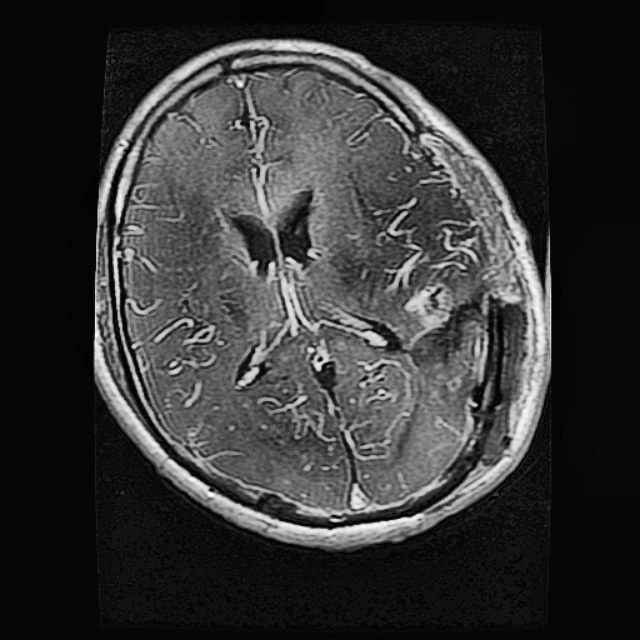Pituitary: (393, 299, 527, 485)
